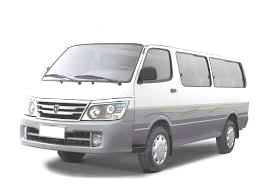van: (17, 21, 255, 166)
